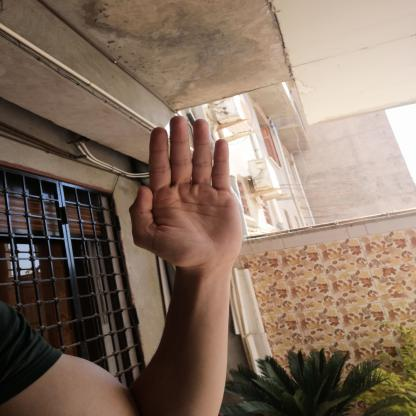SEEN: (116, 108, 254, 280)
